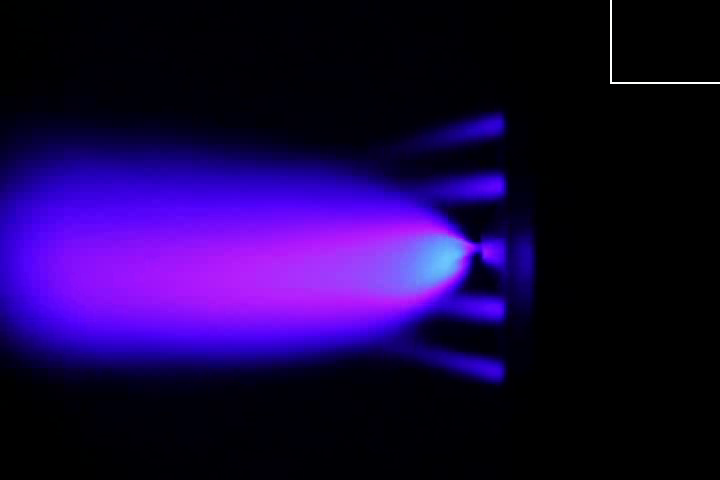burner cap: (476, 233, 507, 268)
pilot flame: (393, 345, 509, 388), (407, 168, 509, 208), (417, 114, 509, 142), (439, 292, 509, 325)
stable: (253, 200, 481, 301)
